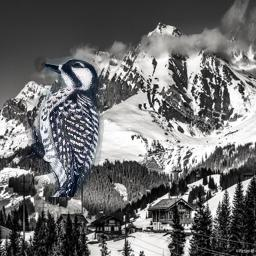Woodpecker: (24, 54, 104, 197)
